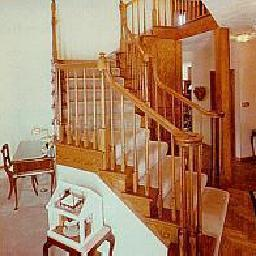Escaleras: (121, 144, 228, 255), (59, 51, 152, 166)
